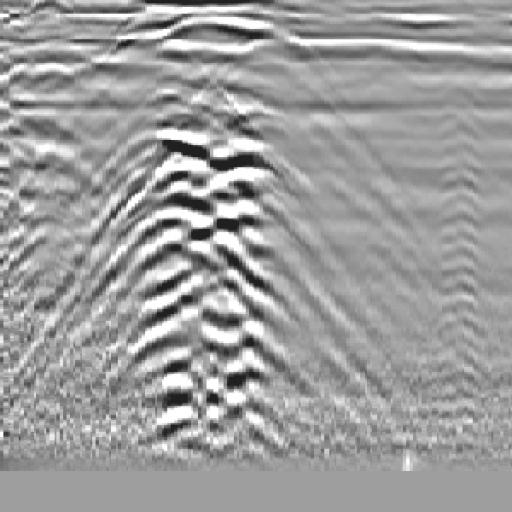metalic: (16, 35, 359, 472)
